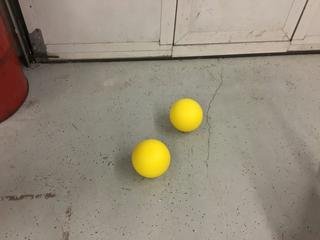power_cell: (129, 137, 173, 178), (167, 96, 206, 133)
